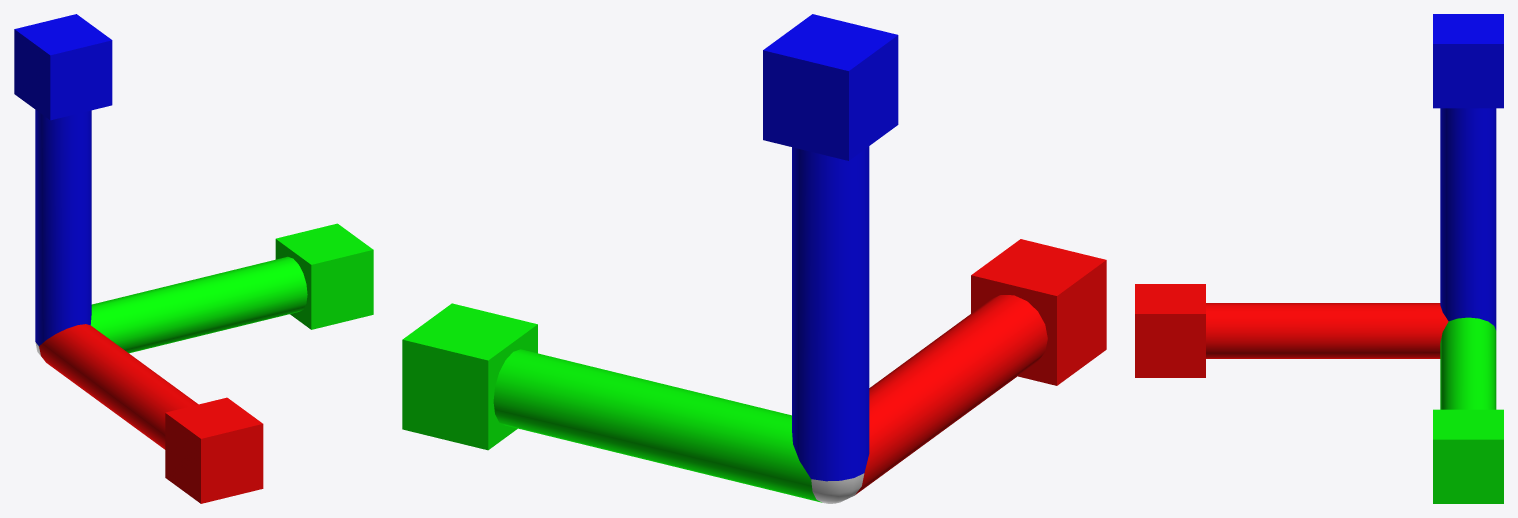
File: Scale.fbx
3 renders of one model, left to right at view 1: azimuth 30°, elevation 25°; view 2: azimuth 150°, elevation 25°; view 3: azimuth 270°, elevation 25°, orthographic. The views are drawn at different scales.
Parts seen in each view (by area): view 1: Cube.006; view 2: Cube.006; view 3: Cube.006.
Part boxes in pixels (x1=…): Cube.006: x1=14, y1=14, x2=373, y2=503; Cube.006: x1=402, y1=14, x2=1106, y2=503; Cube.006: x1=1135, y1=14, x2=1503, y2=503.
Bounding box in the file's own units: 520000 × 520000 × 520000.
